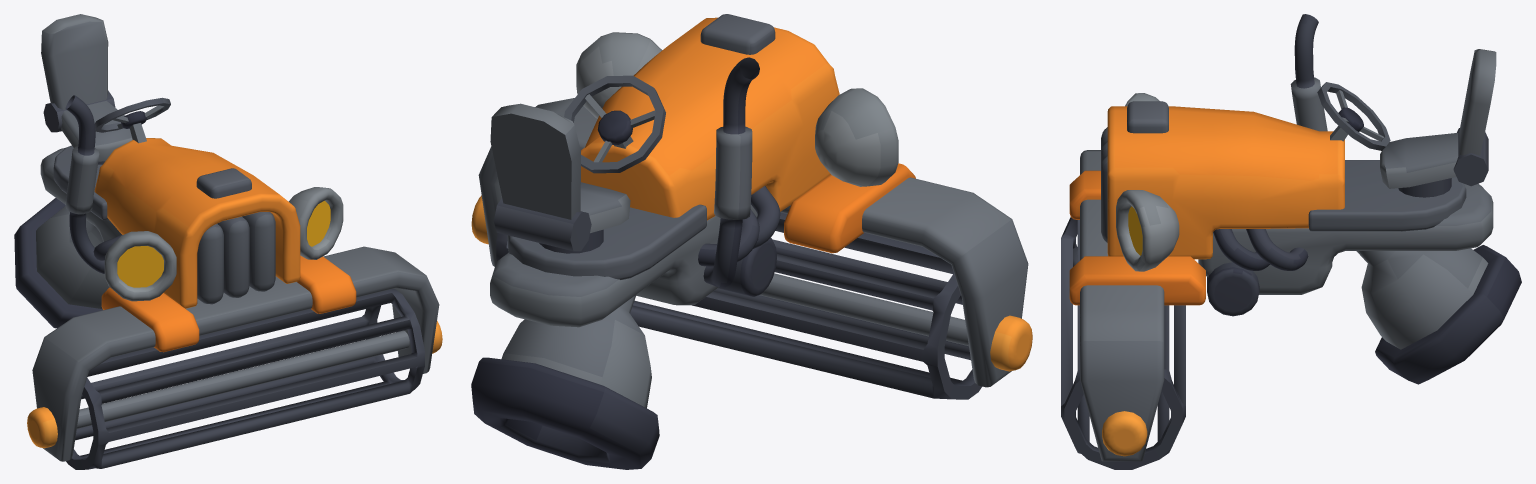
Rendered from SM_Tractor_Harvest.fbx.
3 views of the same model, side by side, from view 1: azimuth 30°, elevation 25°; view 2: azimuth 150°, elevation 25°; view 3: azimuth 270°, elevation 25° (orthographic). The views are drawn at different scales.
Visible parts, largest first — view 1: SM_Tractor_Harvest; view 2: SM_Tractor_Harvest; view 3: SM_Tractor_Harvest.
Part boxes in pixels (x1,y1,x2,y2): SM_Tractor_Harvest: (14, 14, 442, 469); SM_Tractor_Harvest: (471, 14, 1032, 469); SM_Tractor_Harvest: (1061, 14, 1521, 469).
Bounding box in the file's own units: 403 × 282 × 359.
